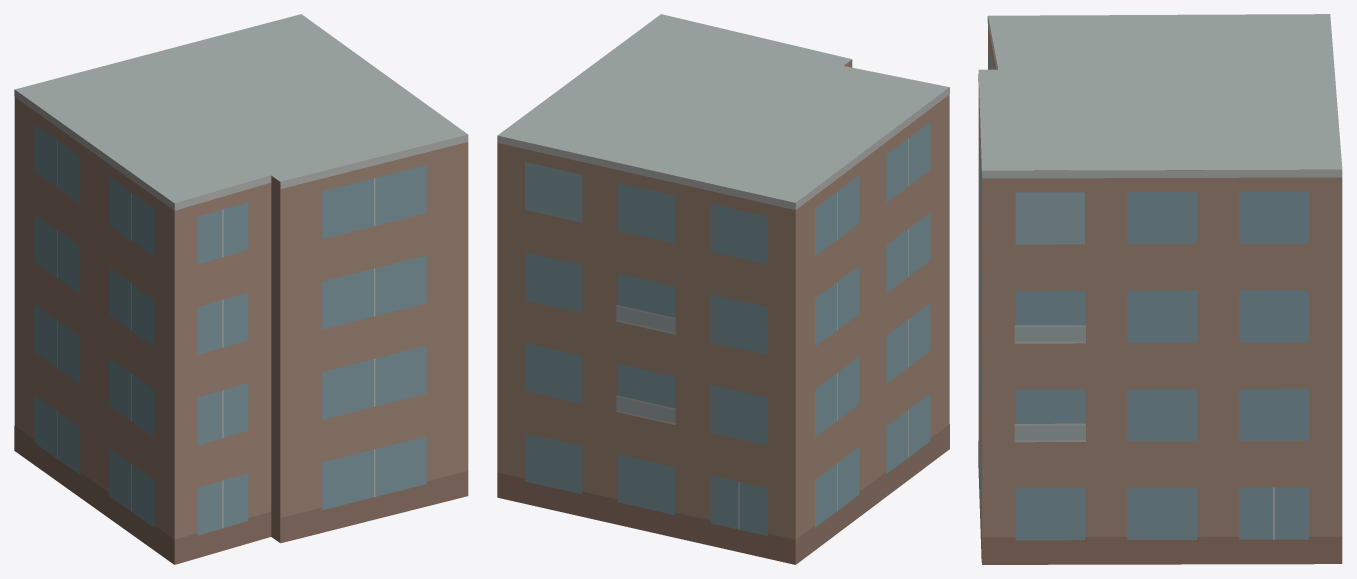
File: survey-upis-32930405.glb
3 renders of one model, left to right at view 1: azimuth 30°, elevation 25°; view 2: azimuth 150°, elevation 25°; view 3: azimuth 270°, elevation 25°, orthographic. The views are drawn at different scales.
Visible parts, largest first — view 1: survey-upis-32930405.tmp; view 2: survey-upis-32930405.tmp; view 3: survey-upis-32930405.tmp.
Boxes of the visible parts, x1,y1,x2,y2 form: survey-upis-32930405.tmp: [14, 14, 468, 564]; survey-upis-32930405.tmp: [497, 14, 949, 564]; survey-upis-32930405.tmp: [978, 14, 1342, 564].
Size of the model in its own units: 10.43 by 12.2 by 10.22.
